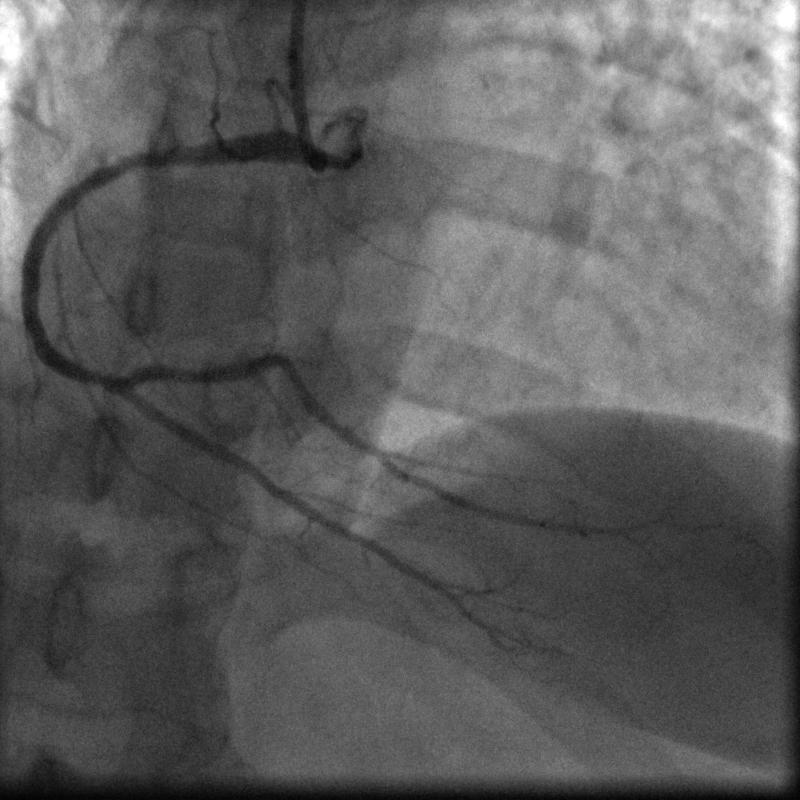Stenosis: (82, 364, 121, 396)
